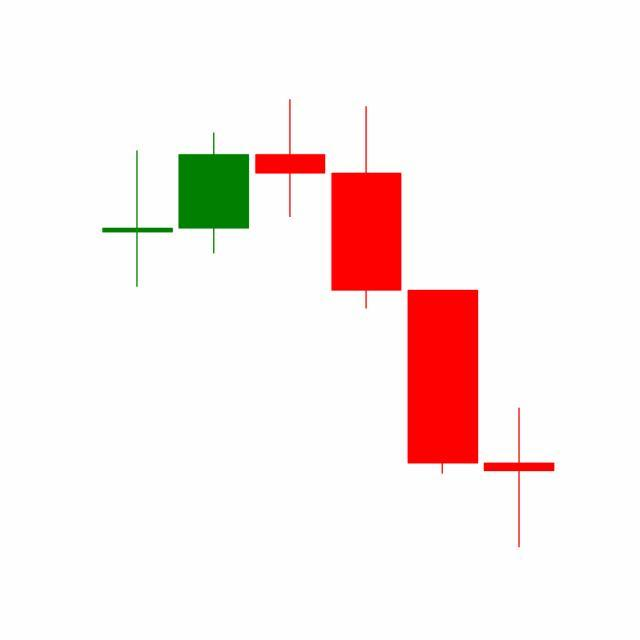Marubozu: (404, 288, 482, 477)
